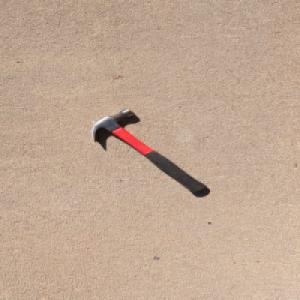Hammer: (90, 107, 208, 194)
